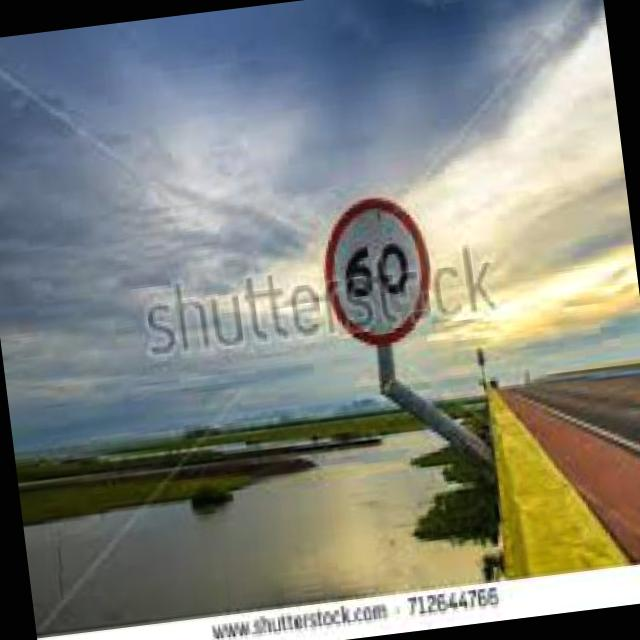Ograniczenie predkosci do 60: (312, 185, 436, 352)
